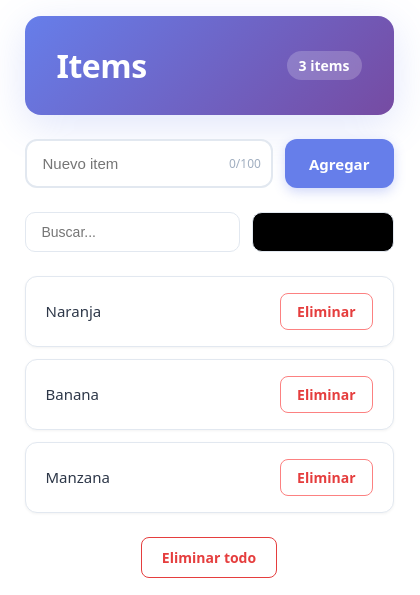
Test: Componente App › Filtrado y Ordenamiento de Listas › debería filtrar items basado en la consulta de búsqueda
Expected: the text "Manzana" is shown, [46,466,110,489]
Type "Ban" into the field with placeholder "Buscar..." at (132,232), box [24,212,240,252]
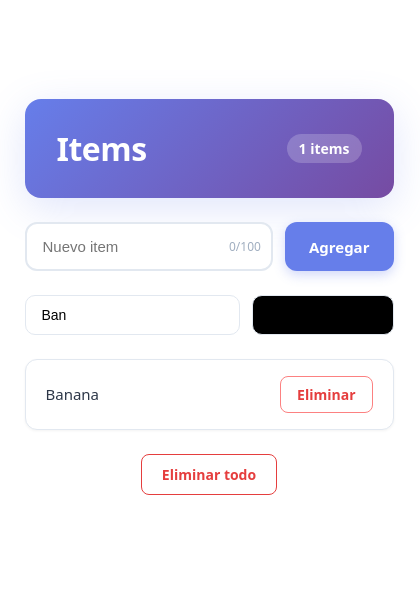
Expected: the text "Banana" is shown, [46,383,99,406]
Expected: the text "Manzana" is gone
Expected: the text "Naranja" is gone
